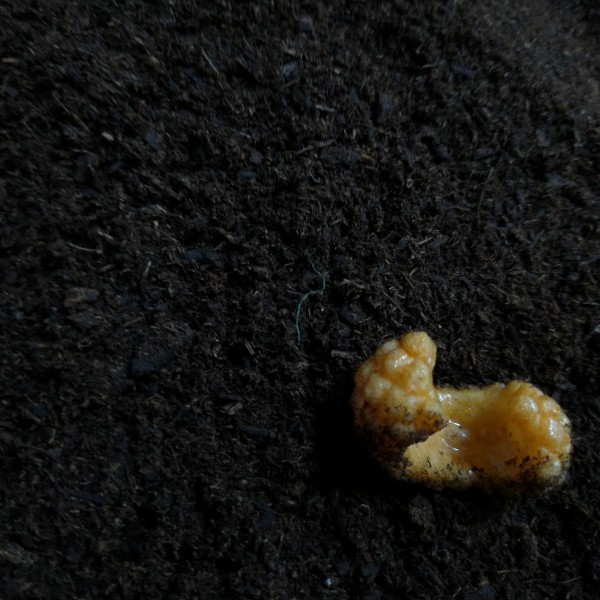eggs: (348, 320, 576, 504)
